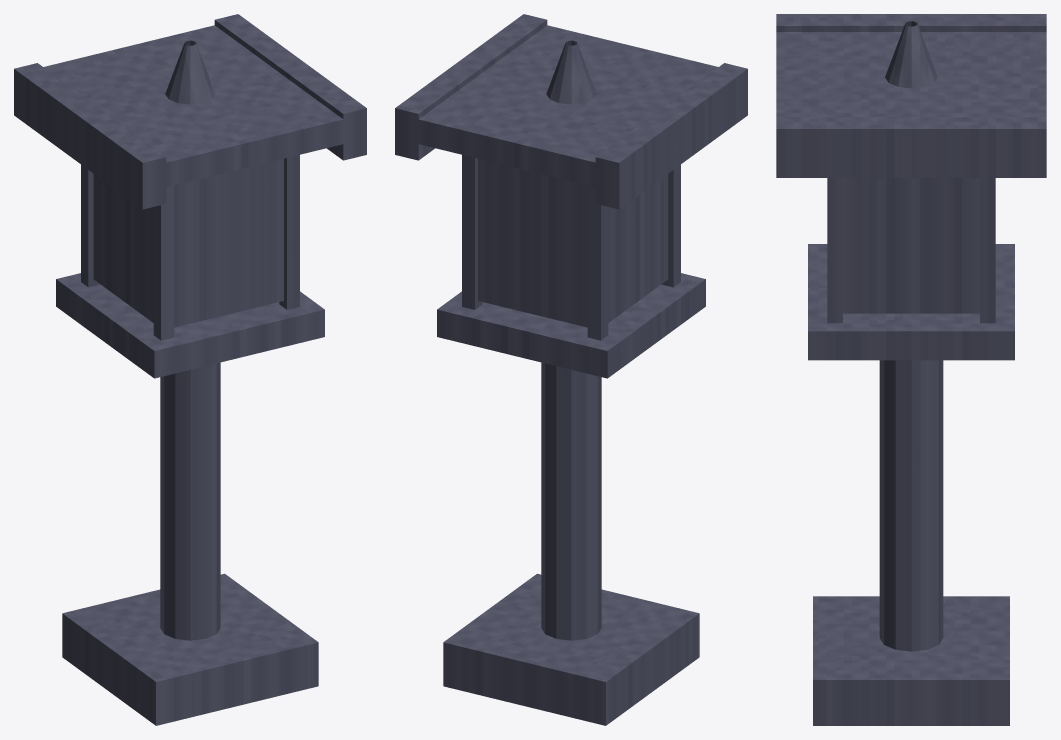
The model's file is KGB_Dojo_SpiritLantern_v16_lod0.glb.
3 views of the same model, side by side, from view 1: azimuth 30°, elevation 25°; view 2: azimuth 150°, elevation 25°; view 3: azimuth 270°, elevation 25° (orthographic). The views are drawn at different scales.
Parts seen in each view (by area): view 1: world; view 2: world; view 3: world.
Part boxes in pixels (bbox=[...]): world: bbox=[14, 14, 366, 725]; world: bbox=[395, 14, 747, 725]; world: bbox=[776, 14, 1046, 725].
Bounding box in the file's own units: 1.71 × 4.58 × 1.7.
Materials: 1 (1 with a texture image).
